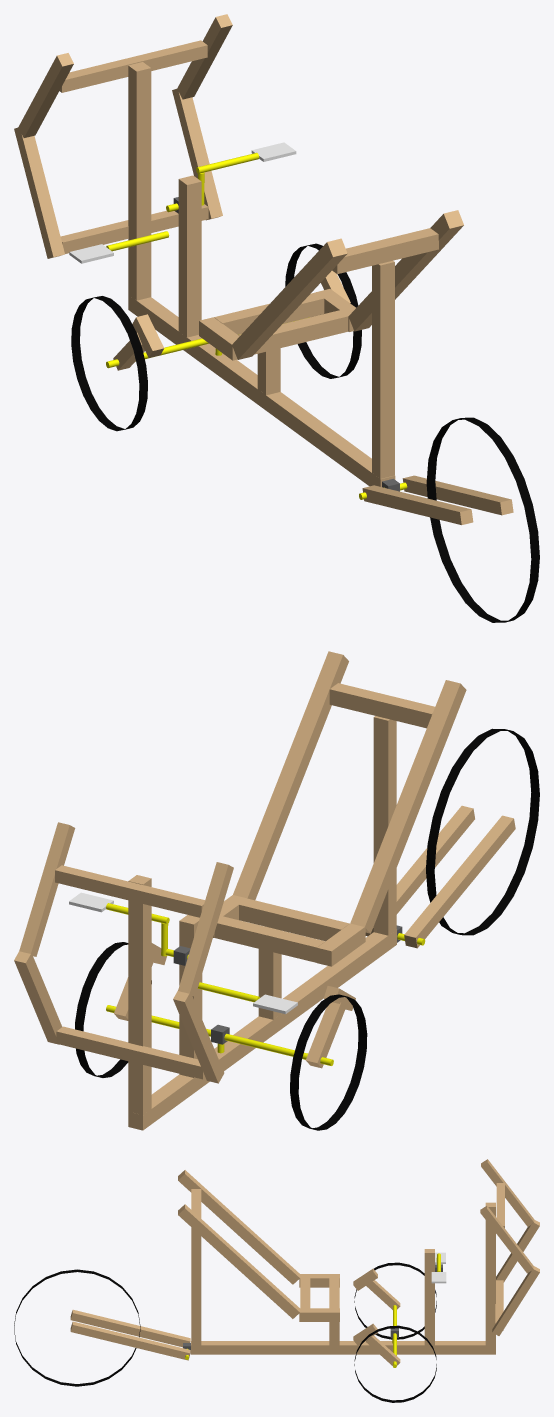
File: tricycle_tadpole_nofreight.dae
3 views of the same model, one above another, from view 1: azimuth 30°, elevation 25°; view 2: azimuth 150°, elevation 25°; view 3: azimuth 270°, elevation 25° (orthographic). The views are drawn at different scales.
Visible parts, largest first — view 1: SketchUp (×4), gridbeam_50mm, gridbeam_500_vertical_3 (×2), gridbeam_500_vertical_5 (×3), gridbeam_500_vertical_1, gridbeam_40mm_vertical_0.5m_1 (×2), gridbeam_40mm_vertical_0.5m (×2), gridbeam_40mm_horizontal_1.2m (×2), gridbeam_500_vertical, gridbeam_40mm_vertical_0.5m_2, gridbeam_40mm_vertical_0.5m_3, gridbeam_500_vertical_6 (+2 smaller); view 2: gridbeam_500_vertical_3 (×2), SketchUp (×4), gridbeam_500_vertical_5 (×3), gridbeam_50mm, gridbeam_40mm_vertical_0.5m_1 (×2), gridbeam_40mm_horizontal_1.2m (×2), gridbeam_500_vertical_1, gridbeam_40mm_vertical_0.5m (×2), gridbeam_40mm_vertical_0.5m_2, gridbeam_40mm_vertical_0.5m_3, gridbeam_500_vertical_6, gridbeam_500_vertical_4 (+3 smaller); view 3: gridbeam_500_vertical_3 (×2), gridbeam_50mm, SketchUp (×4), gridbeam_40mm_horizontal_1.2m (×2), gridbeam_40mm_vertical_0.5m (×2), gridbeam_500_vertical_1, gridbeam_500_vertical, gridbeam_40mm_vertical_0.5m_3, gridbeam_500_vertical_7 (×2), gridbeam_40mm_vertical_0.5m_2, gridbeam_40mm_vertical_0.5m_1 (×2), gridbeam_500_vertical_5 (×2) (+2 smaller).
Part boxes in pixels (x1=…): SketchUp (×4): x1=71, y1=243, x2=539, y2=622; gridbeam_50mm: x1=128, y1=295, x2=395, y2=486; gridbeam_500_vertical_3 (×2): x1=232, y1=210, x2=463, y2=359; gridbeam_500_vertical_5 (×3): x1=214, y1=228, x2=438, y2=354; gridbeam_500_vertical_1: x1=128, y1=62, x2=151, y2=300; gridbeam_40mm_vertical_0.5m_1 (×2): x1=59, y1=40, x2=208, y2=253; gridbeam_40mm_vertical_0.5m (×2): x1=14, y1=88, x2=222, y2=258; gridbeam_40mm_horizontal_1.2m (×2): x1=362, y1=475, x2=513, y2=525; gridbeam_500_vertical: x1=178, y1=175, x2=201, y2=337; gridbeam_40mm_vertical_0.5m_2: x1=18, y1=53, x2=73, y2=137; gridbeam_40mm_vertical_0.5m_3: x1=177, y1=14, x2=232, y2=99; gridbeam_500_vertical_6: x1=257, y1=348, x2=280, y2=395; gridbeam_500_vertical_3 (×2): x1=233, y1=651, x2=466, y2=933; SketchUp (×4): x1=75, y1=716, x2=539, y2=1130; gridbeam_500_vertical_5 (×3): x1=214, y1=683, x2=434, y2=962; gridbeam_50mm: x1=128, y1=929, x2=396, y2=1130; gridbeam_40mm_vertical_0.5m_1 (×2): x1=55, y1=865, x2=205, y2=1079; gridbeam_40mm_horizontal_1.2m (×2): x1=365, y1=805, x2=515, y2=948; gridbeam_500_vertical_1: x1=128, y1=875, x2=151, y2=1114; gridbeam_40mm_vertical_0.5m (×2): x1=14, y1=951, x2=224, y2=1083; gridbeam_40mm_vertical_0.5m_2: x1=178, y1=862, x2=233, y2=996; gridbeam_40mm_vertical_0.5m_3: x1=19, y1=822, x2=75, y2=956; gridbeam_500_vertical_6: x1=258, y1=927, x2=281, y2=1019; gridbeam_500_vertical_4: x1=317, y1=923, x2=365, y2=966; gridbeam_500_vertical_3 (×2): x1=178, y1=1170, x2=299, y2=1318; gridbeam_50mm: x1=191, y1=1341, x2=495, y2=1354; SketchUp (×4): x1=14, y1=1228, x2=436, y2=1402; gridbeam_40mm_horizontal_1.2m (×2): x1=70, y1=1309, x2=190, y2=1360; gridbeam_40mm_vertical_0.5m (×2): x1=492, y1=1220, x2=539, y2=1335; gridbeam_500_vertical_1: x1=485, y1=1202, x2=495, y2=1345; gridbeam_500_vertical: x1=424, y1=1249, x2=434, y2=1345; gridbeam_40mm_vertical_0.5m_3: x1=480, y1=1206, x2=533, y2=1273; gridbeam_500_vertical_7 (×2): x1=366, y1=1280, x2=400, y2=1365; gridbeam_40mm_vertical_0.5m_2: x1=481, y1=1159, x2=534, y2=1226; gridbeam_40mm_vertical_0.5m_1 (×2): x1=495, y1=1183, x2=504, y2=1330; gridbeam_500_vertical_5 (×2): x1=300, y1=1278, x2=339, y2=1308.
Bounding box in the file's own units: 30.33 × 102 × 42.93.
